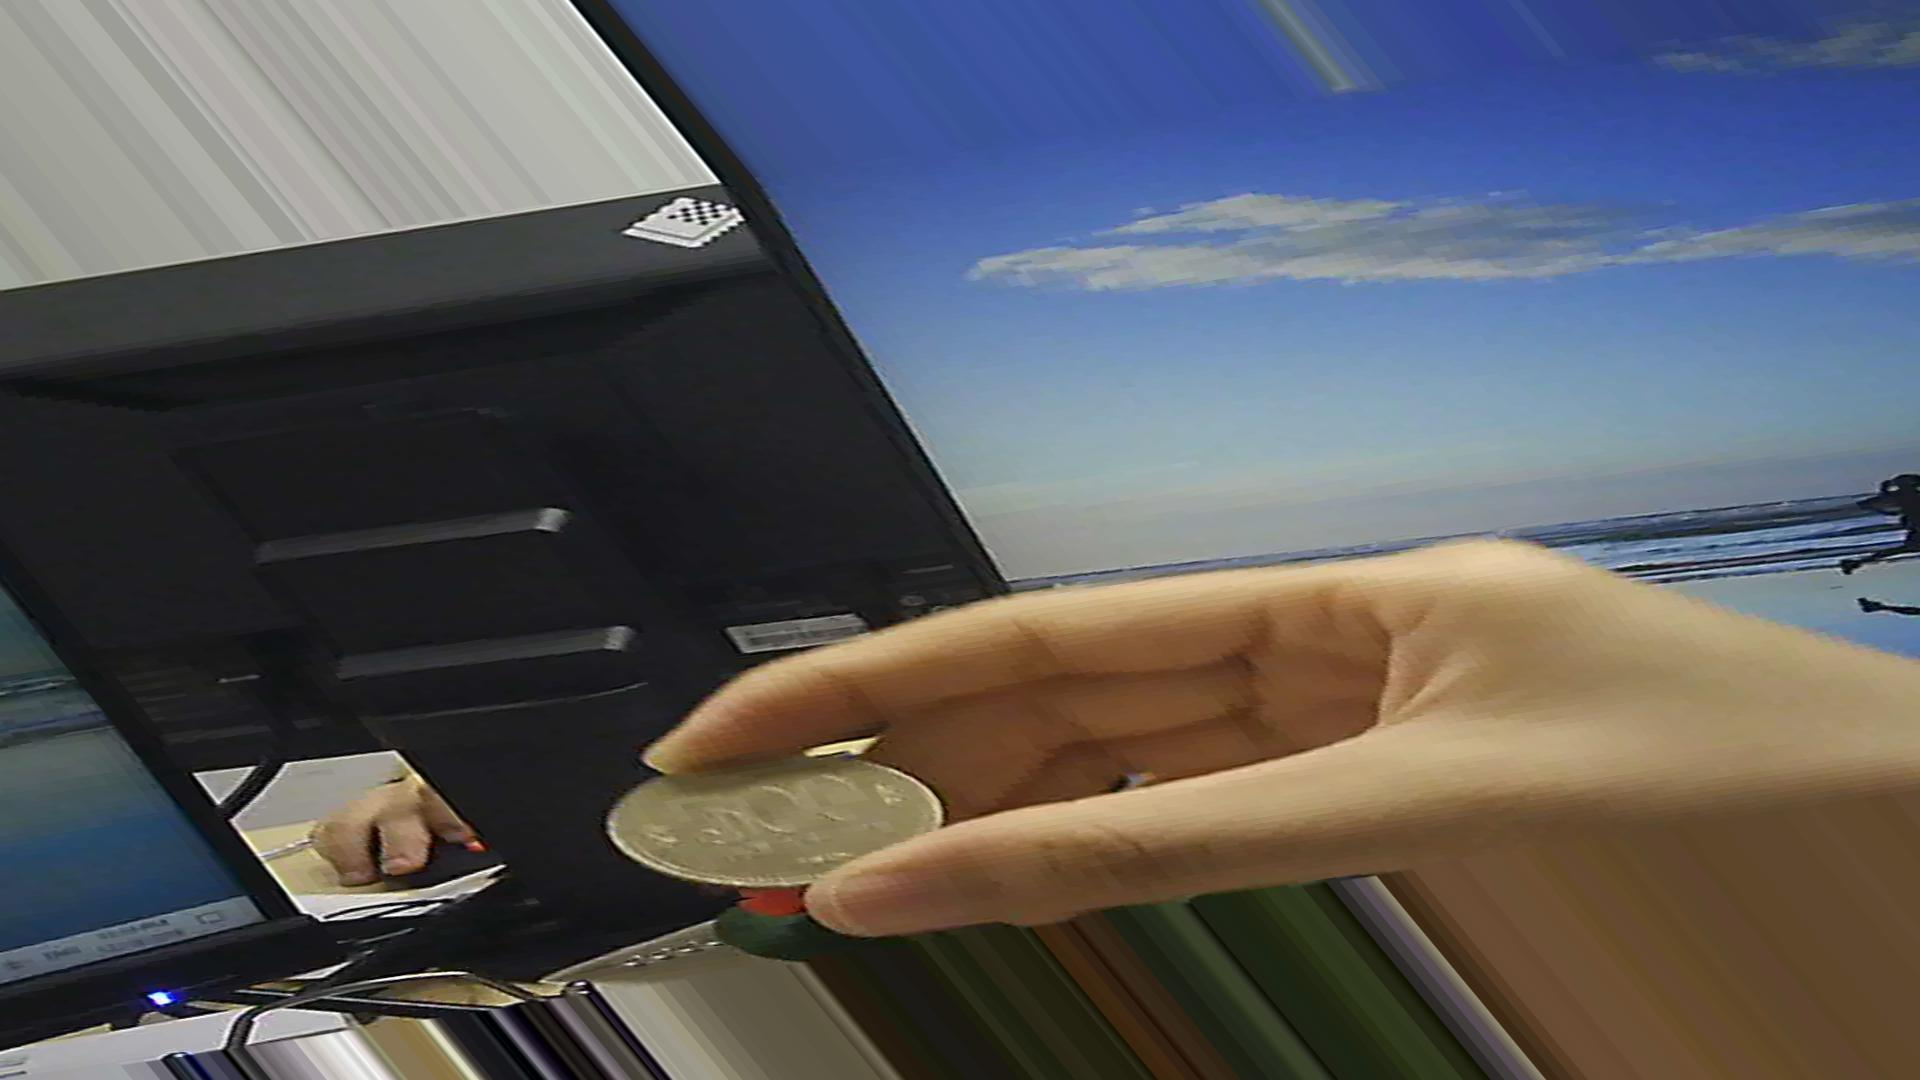500 Yen: (597, 727, 975, 880)
